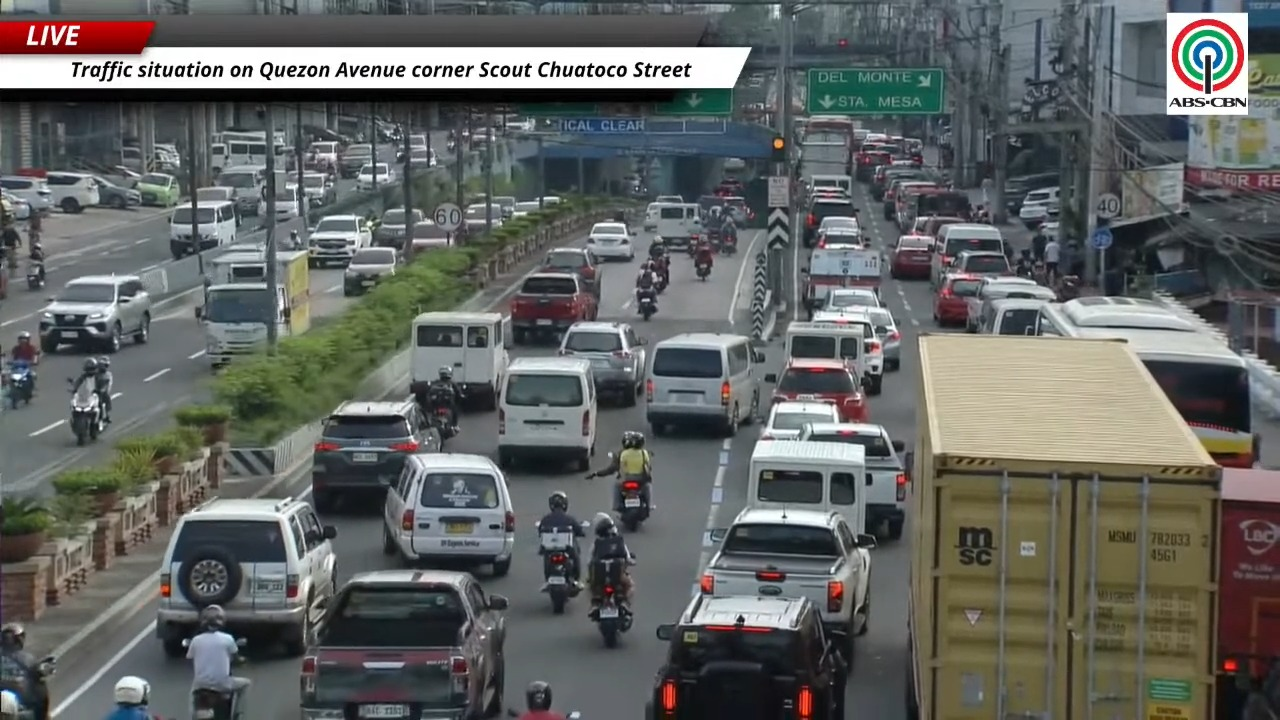bus: (1037, 297, 1258, 467), (210, 130, 266, 176)
car: (298, 569, 507, 719), (156, 498, 336, 657), (699, 505, 875, 660), (645, 594, 848, 719), (383, 452, 514, 576), (311, 400, 439, 511), (797, 423, 908, 539), (38, 275, 152, 353), (559, 321, 646, 406), (510, 270, 598, 344), (812, 306, 884, 394), (765, 359, 867, 421), (966, 276, 1057, 332), (930, 223, 1005, 287), (307, 214, 371, 268), (760, 401, 840, 439), (541, 247, 601, 297), (343, 247, 399, 295), (803, 197, 856, 247), (933, 273, 981, 326), (216, 166, 265, 216), (1004, 171, 1059, 215), (45, 171, 100, 213), (882, 178, 937, 220), (866, 307, 900, 370), (0, 175, 53, 212), (890, 235, 933, 279), (586, 222, 634, 261), (869, 165, 922, 200), (1018, 186, 1059, 228), (949, 250, 1013, 275), (135, 172, 180, 207), (821, 287, 881, 311), (373, 208, 409, 246), (463, 202, 503, 236), (413, 218, 452, 252), (274, 183, 307, 221), (338, 143, 373, 178), (815, 226, 866, 249), (303, 172, 336, 207), (355, 163, 396, 191), (307, 141, 341, 167), (0, 192, 31, 220), (818, 216, 860, 234), (407, 148, 437, 170), (493, 195, 517, 220), (512, 200, 543, 218), (642, 202, 660, 231), (654, 195, 684, 203)
motorcycle: (589, 559, 633, 648), (0, 656, 55, 719), (540, 533, 580, 613), (424, 388, 457, 441), (619, 478, 649, 531), (191, 688, 242, 719), (7, 360, 34, 409), (26, 260, 45, 290), (637, 291, 656, 320), (719, 234, 736, 255), (696, 261, 711, 281), (506, 708, 523, 717), (69, 379, 74, 382)
truck: (905, 334, 1221, 719), (699, 504, 875, 667), (1215, 467, 1279, 719), (197, 251, 310, 368), (800, 246, 881, 317)
